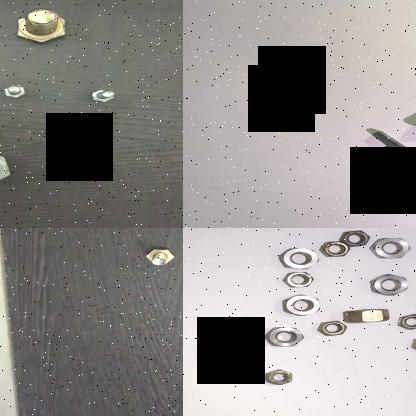Bolts: (4, 5, 75, 46), (52, 152, 116, 182), (357, 125, 416, 156), (78, 82, 125, 106), (143, 244, 177, 266), (0, 81, 30, 103), (0, 146, 15, 186)
NUTS: (277, 292, 324, 320), (364, 272, 410, 296), (276, 245, 320, 270), (370, 235, 413, 260), (262, 324, 306, 348), (342, 304, 392, 324), (260, 366, 300, 386), (278, 269, 316, 287), (316, 316, 350, 336), (337, 228, 371, 247), (318, 237, 350, 257), (397, 311, 416, 330)
